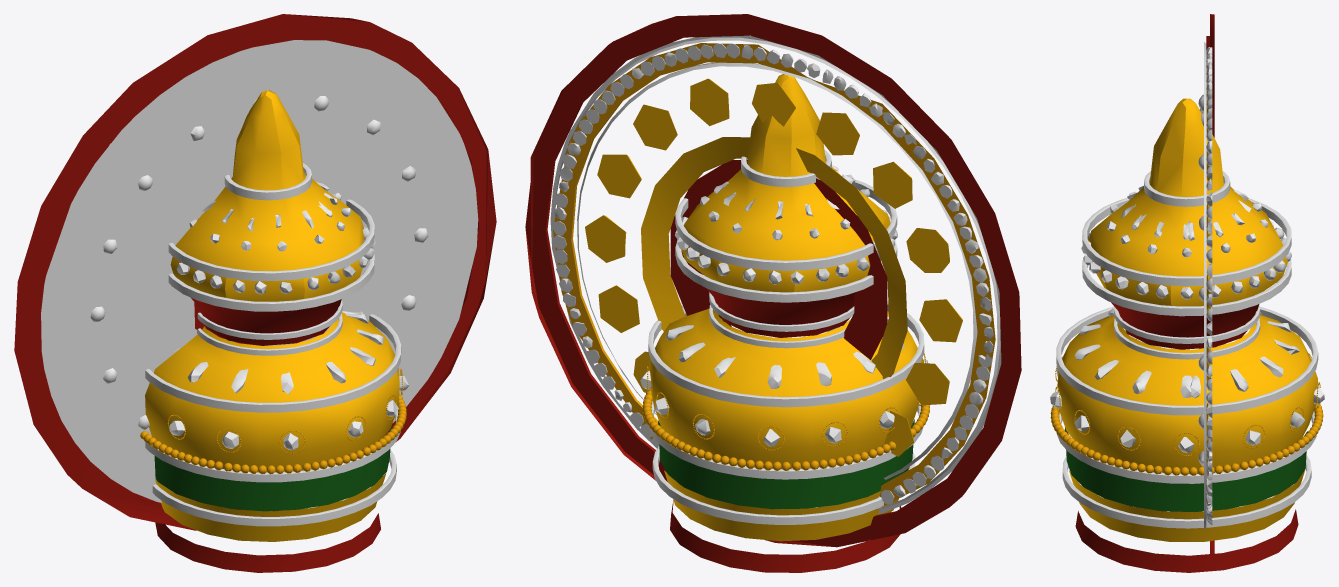
File: kathakali_crown_redux_v3.glb
3 views of the same model, side by side, from view 1: azimuth 30°, elevation 25°; view 2: azimuth 150°, elevation 25°; view 3: azimuth 270°, elevation 25° (orthographic). The views are drawn at different scales.
Parts seen in each view (by area): view 1: Circle_Circle.001-Material.005_remesh, Cylinder-Material.001_remesh, Circle_Circle.001-Material.002_remesh, Cylinder-Material.002_remesh, Cylinder-Material.003_remesh, Torus.005_remesh, Torus.007_remesh, Torus.001_remesh, Sphere.001_remesh, Torus.002_remesh, Torus.006_remesh, Sphere.021_Sphere.031_remesh (+6 smaller); view 2: Cylinder-Material.001_remesh, Circle_Circle.001-Material.002_remesh, Sphere.022_Sphere.032_remesh, Sphere.017_Sphere.028_remesh, Circle_Circle.001-Material.001_remesh, Circle_Circle.001-Material.004_remesh, Circle_Circle.001-Material.005_remesh, Cylinder-Material.002_remesh, Cylinder-Material.003_remesh, Torus.005_remesh, Torus.001_remesh, Sphere.001_remesh (+9 smaller); view 3: Cylinder-Material.001_remesh, Cylinder-Material.002_remesh, Cylinder-Material.003_remesh, Torus.005_remesh, Torus.001_remesh, Sphere.017_Sphere.028_remesh, Torus.007_remesh, Sphere.001_remesh, Torus.002_remesh, Torus.006_remesh, Sphere.015_Sphere.017_remesh, Sphere.014_Sphere.016_remesh (+11 smaller).
Part boxes in pixels (x1,y1,x2,y2): Circle_Circle.001-Material.005_remesh: (41,40,478,502); Cylinder-Material.001_remesh: (145,90,399,541); Circle_Circle.001-Material.002_remesh: (14,14,496,530); Cylinder-Material.002_remesh: (155,297,380,572); Cylinder-Material.003_remesh: (154,426,391,511); Torus.005_remesh: (145,314,401,412); Torus.007_remesh: (152,449,396,526); Torus.001_remesh: (168,199,374,280); Sphere.001_remesh: (140,393,406,474); Torus.002_remesh: (168,254,374,311); Torus.006_remesh: (145,411,400,482); Sphere.021_Sphere.031_remesh: (90,96,428,429); Cylinder-Material.001_remesh: (648,74,923,541); Circle_Circle.001-Material.002_remesh: (525,14,1021,547); Sphere.022_Sphere.032_remesh: (585,78,962,469); Sphere.017_Sphere.028_remesh: (552,43,993,509); Circle_Circle.001-Material.001_remesh: (641,137,907,378); Circle_Circle.001-Material.004_remesh: (553,43,995,509); Circle_Circle.001-Material.005_remesh: (550,35,1001,513); Cylinder-Material.002_remesh: (670,288,901,572); Cylinder-Material.003_remesh: (658,419,914,509); Torus.005_remesh: (648,296,924,407); Torus.001_remesh: (675,179,897,270); Sphere.001_remesh: (642,389,929,470); Cylinder-Material.001_remesh: (1057,98,1317,541); Cylinder-Material.002_remesh: (1075,302,1298,572); Cylinder-Material.003_remesh: (1065,427,1307,511); Torus.005_remesh: (1056,306,1318,415); Torus.001_remesh: (1082,198,1291,285); Sphere.017_Sphere.028_remesh: (1206,47,1212,524); Torus.007_remesh: (1062,454,1311,528); Sphere.001_remesh: (1050,403,1323,475); Torus.002_remesh: (1082,254,1291,316); Torus.006_remesh: (1056,411,1316,483); Sphere.015_Sphere.017_remesh: (1074,308,1299,398); Sphere.014_Sphere.016_remesh: (1081,221,1291,299).
Size of the model in its own units: 171 by 170 by 86.1.
